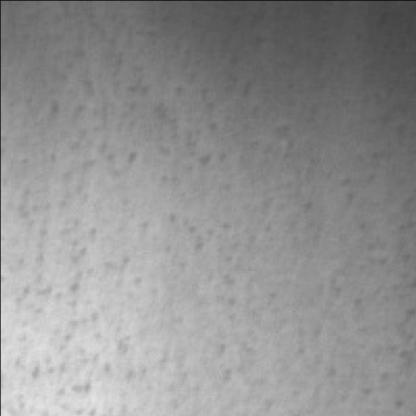pitted_surface: (17, 50, 129, 395), (112, 79, 391, 198), (144, 214, 270, 374), (328, 176, 408, 408)
